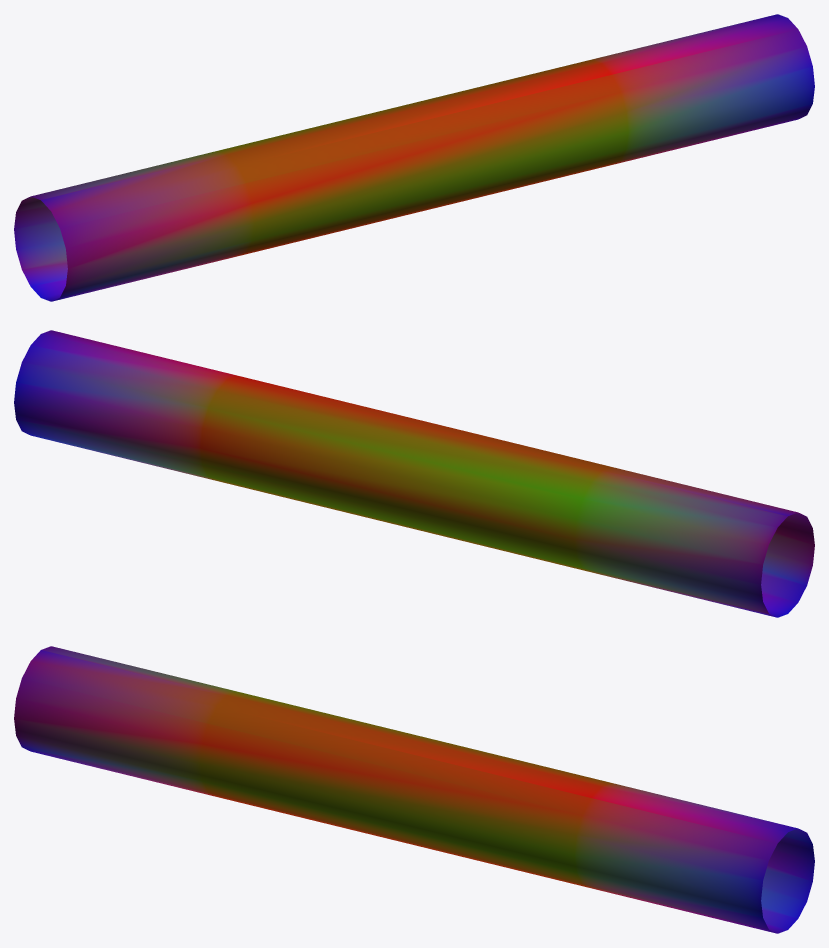
The model's file is PipaB_M_4.fbx.
3 renders of one model, top to bottom at view 1: azimuth 30°, elevation 25°; view 2: azimuth 150°, elevation 25°; view 3: azimuth 330°, elevation 25°, orthographic.
Visible parts, largest first — view 1: Pipe.003; view 2: Pipe.003; view 3: Pipe.003.
Part boxes in pixels (x1,y1,x2,y2): Pipe.003: (14,14,814,301); Pipe.003: (14,330,814,617); Pipe.003: (14,646,814,933).
Size of what is drawn, in the model's own units: 400 by 50 by 50.
